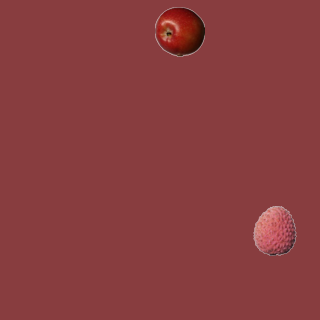Apple Braeburn: (154, 6, 204, 56)
Lychee: (249, 205, 299, 255)
